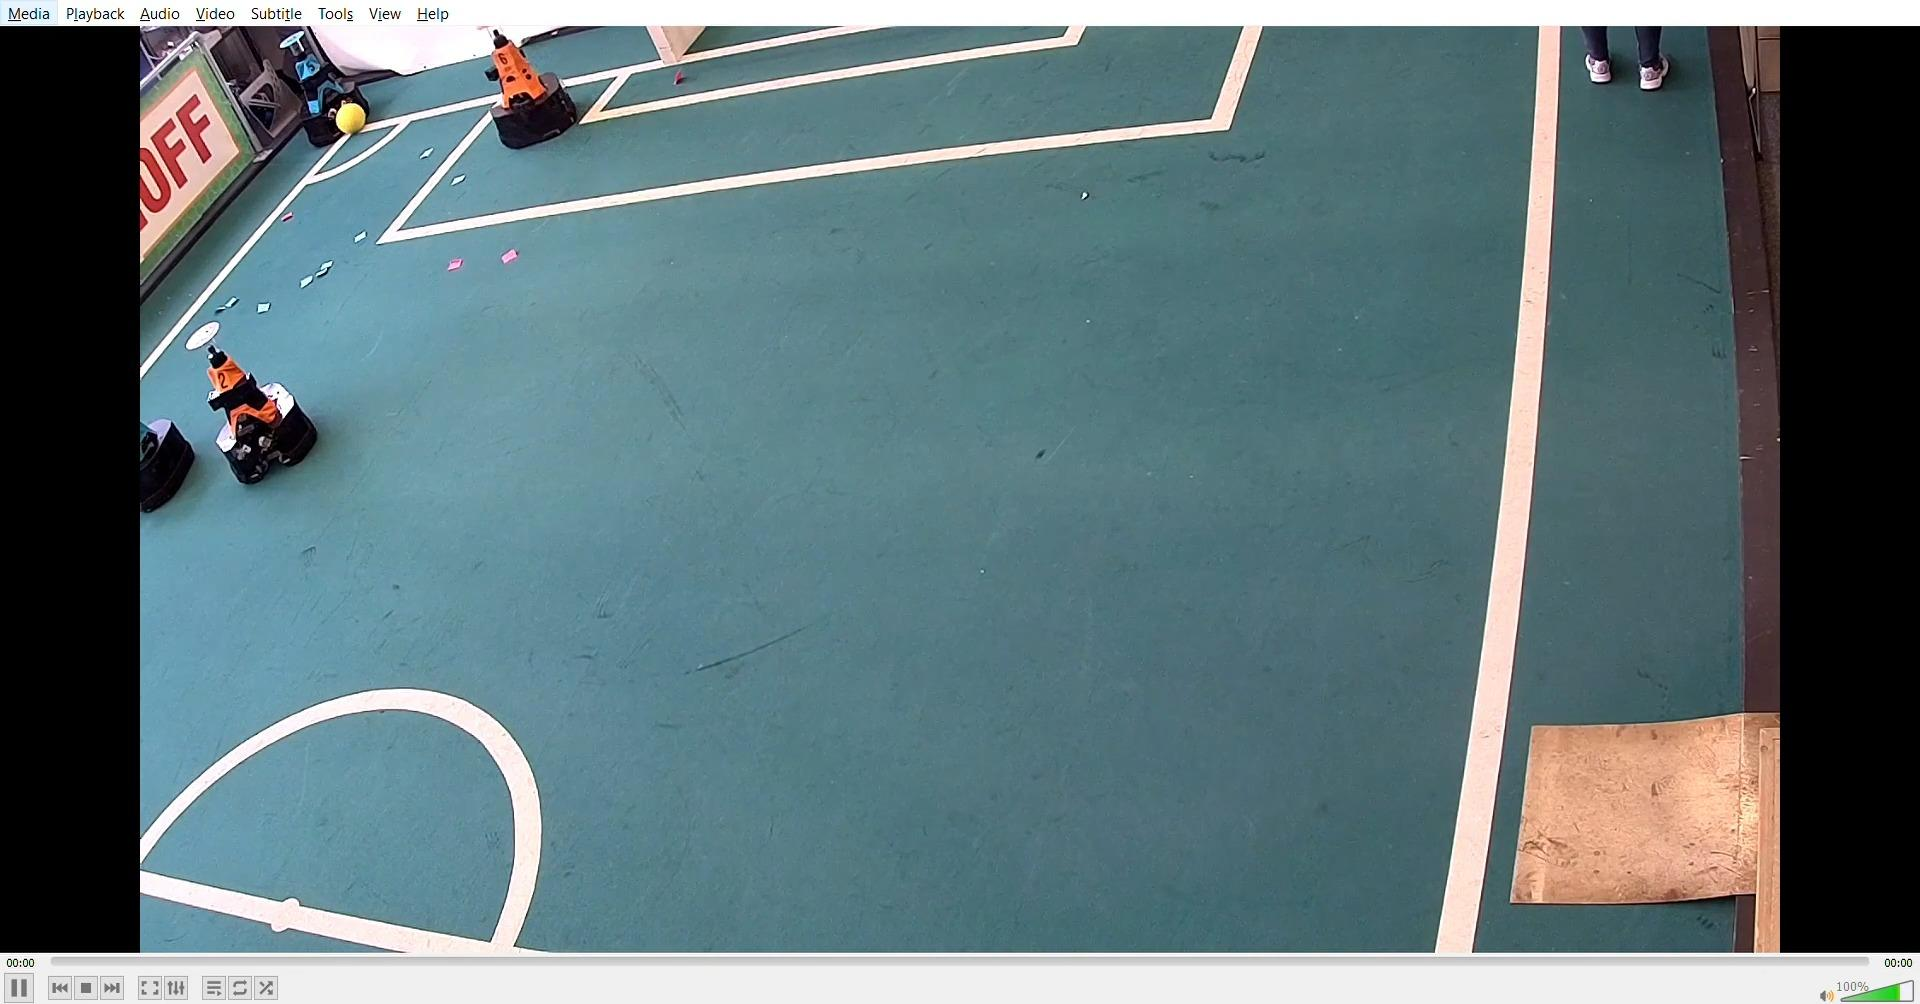Ball: (330, 102, 373, 136)
Team_Blue: (274, 33, 378, 141)
Team_Red: (178, 321, 326, 475), (480, 29, 579, 151)
